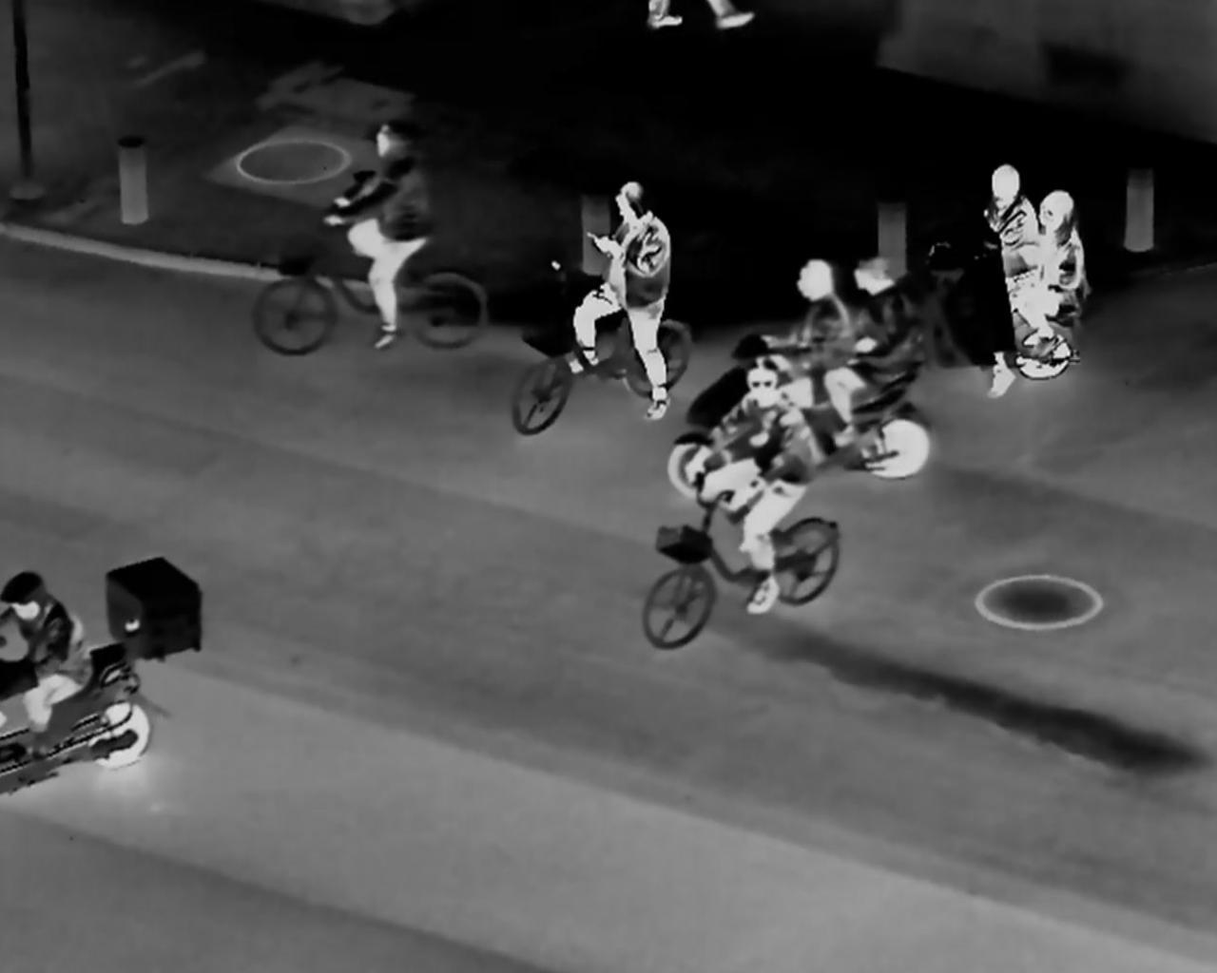person: (690, 363, 819, 621), (576, 178, 673, 418), (336, 120, 429, 350), (964, 148, 1034, 410), (830, 242, 913, 445), (6, 560, 87, 741), (1031, 186, 1100, 353), (769, 247, 856, 378)
